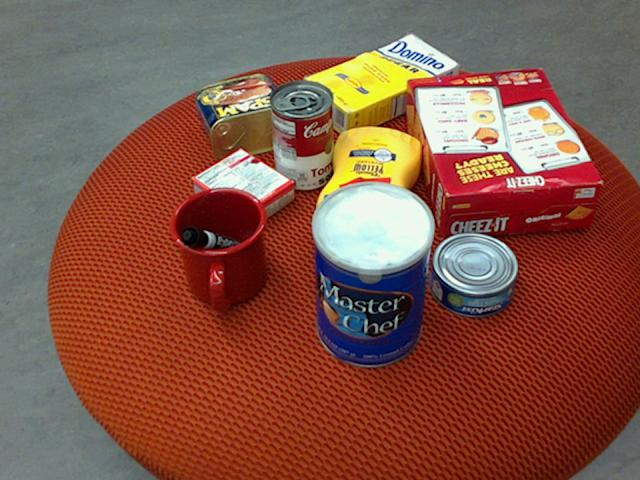cracker_box: (404, 67, 602, 237)
gelatin_box: (189, 147, 292, 233)
large_marker: (179, 227, 252, 259)
master_chef_can: (311, 183, 432, 368)
mug: (167, 187, 267, 312)
mustard_bottle: (316, 126, 422, 272)
potted_meat_can: (196, 73, 298, 160)
sugar_box: (302, 33, 458, 137)
tomato_soup_can: (269, 78, 333, 189)
tuna_fish_can: (429, 231, 519, 317)
